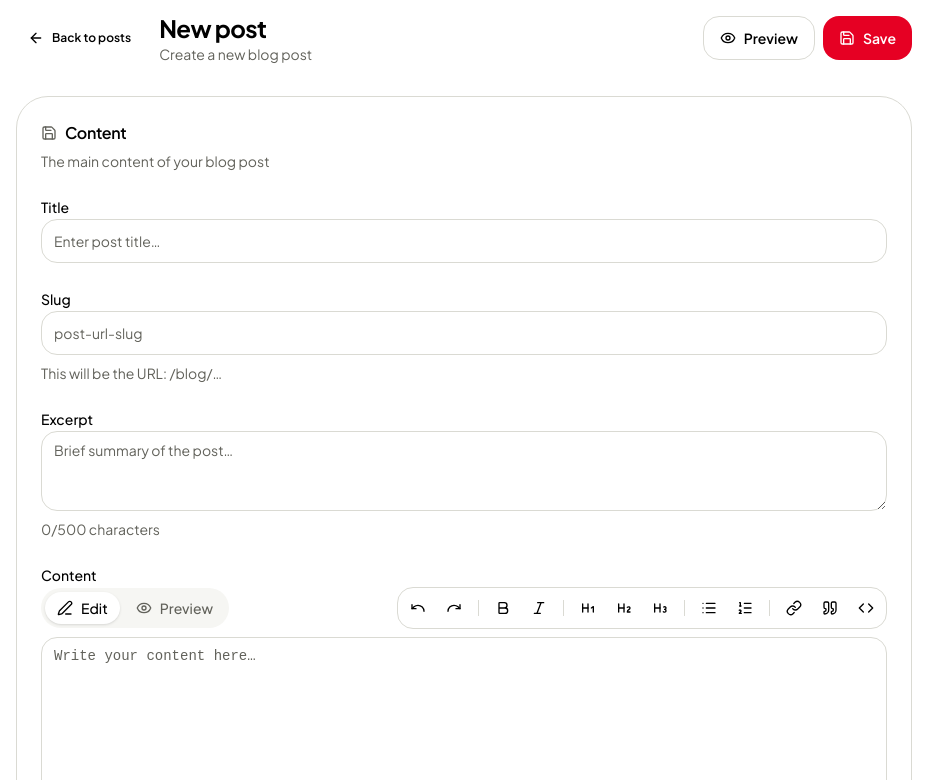
Test: PostEditorPage › auto-suggests a slug from the title
The width and height of the screenshot is (929, 780).
Step 1. Type "My Brand New Post!" into the field labelled "Title" → x=464, y=241, box [41,219,887,263]
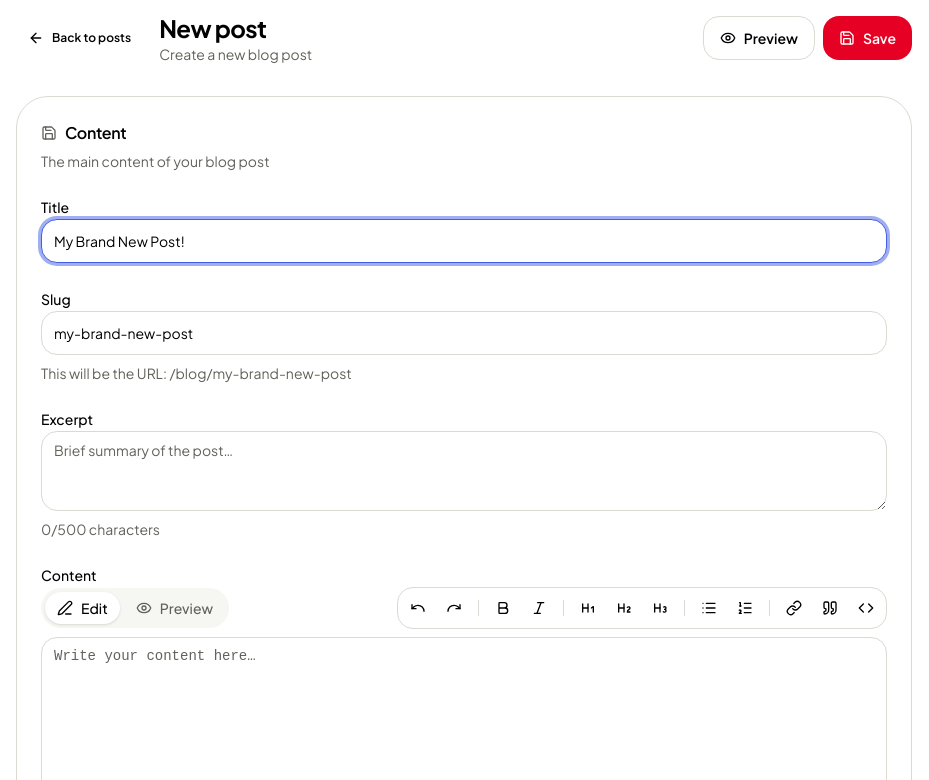
Check: the field labelled "Slug" holds "my-brand-new-post", box [41,311,887,355]
